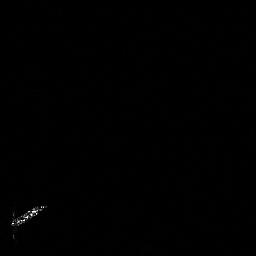ship: (6, 199, 51, 231)
